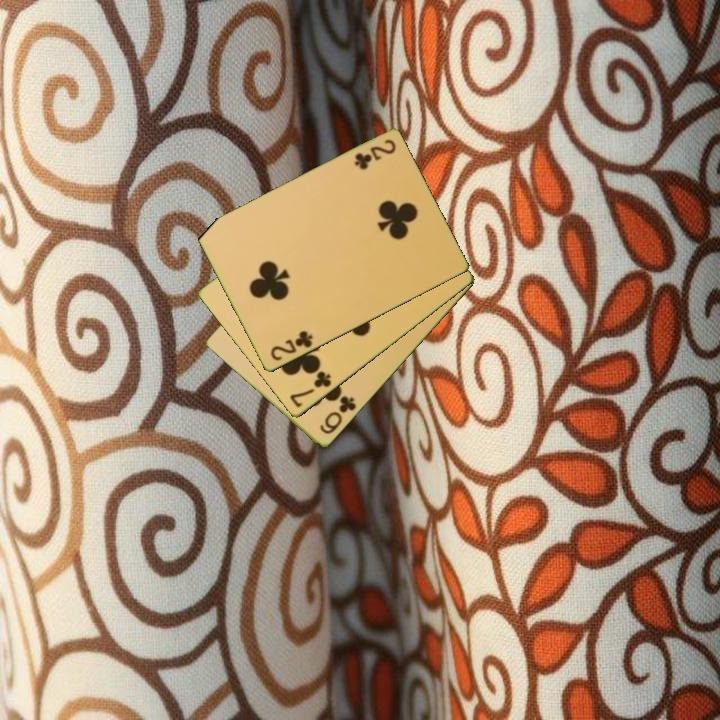2c: (267, 327, 316, 364), (351, 136, 399, 173)
6c: (316, 392, 359, 438)
7c: (286, 368, 334, 411)
